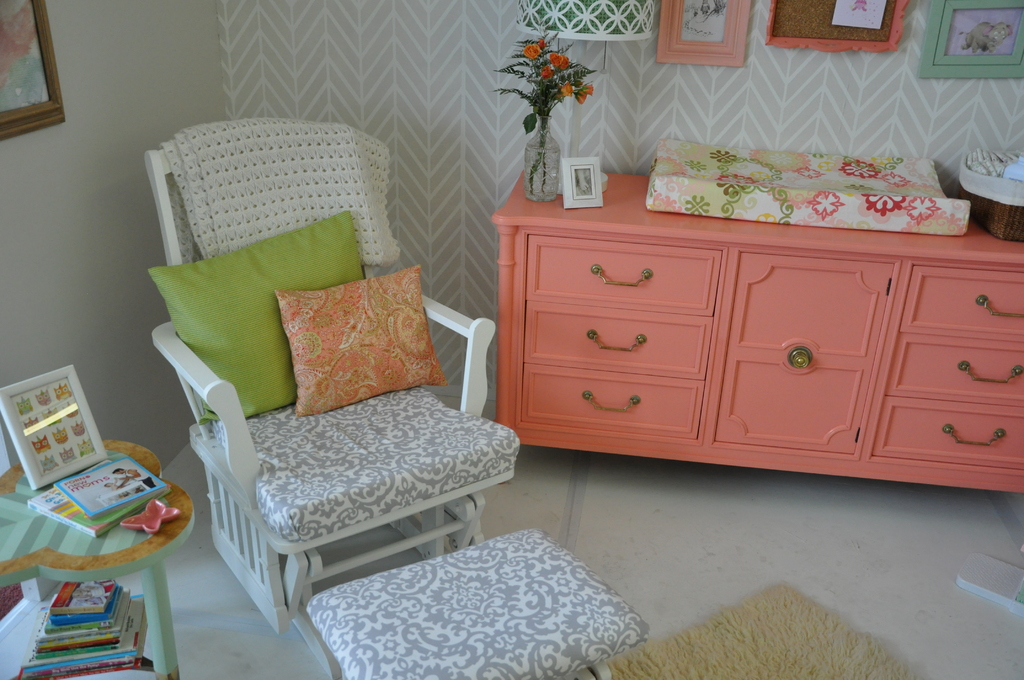cabinet door: (734, 257, 876, 452), (534, 244, 710, 299), (534, 307, 698, 365), (550, 369, 695, 429), (911, 282, 1024, 344), (906, 347, 1024, 405), (894, 404, 1024, 456)
handle: (946, 350, 1024, 391), (582, 254, 655, 295), (582, 323, 651, 354), (941, 419, 1010, 450), (575, 386, 642, 417), (972, 291, 1024, 326), (780, 353, 814, 380)
